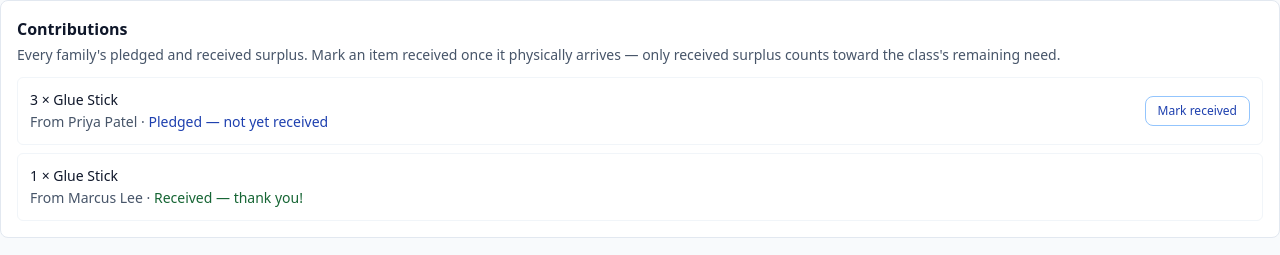
Test: OrganizerContributionsPanel › shows a mark-received action only for a still-PLEDGED contribution, and calls the receive endpoint
Check: the text "From Priya Patel · Pledged — not yet received" is shown, box [30, 112, 328, 132]
Click the button "Mark received". click: [1197, 111]
box: [1144, 96, 1250, 126]
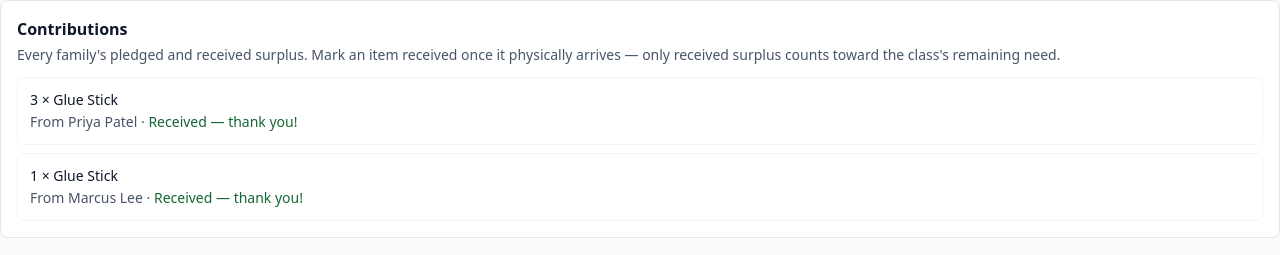
Check: no buttons "Mark received" are shown
